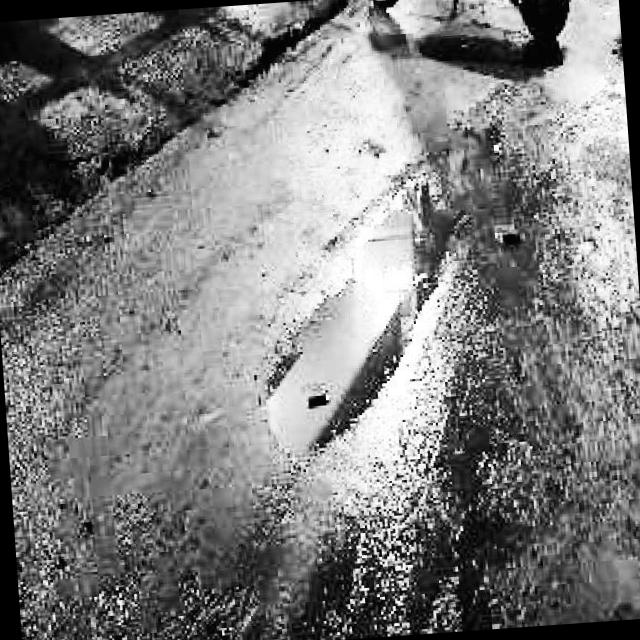Pothole: (222, 80, 534, 474)
